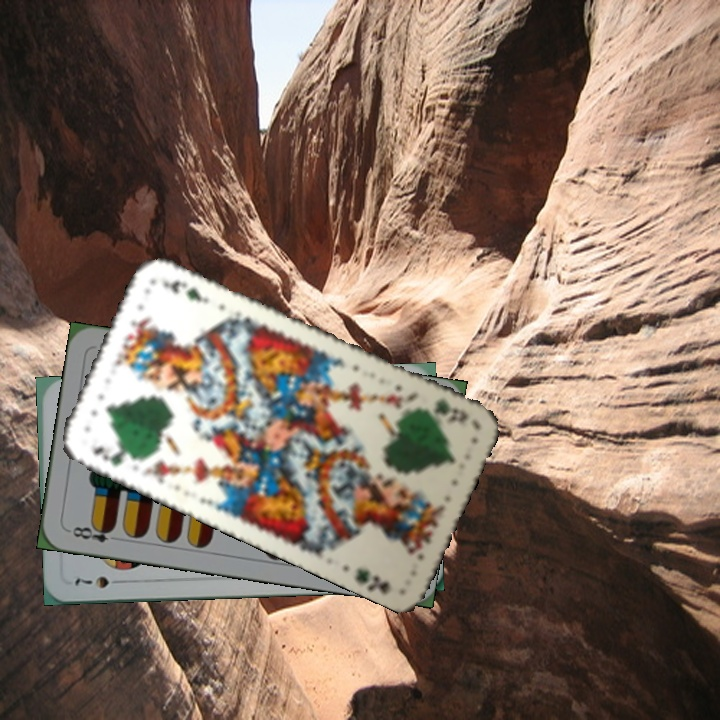E8: (64, 520, 123, 545)
GK: (88, 442, 140, 469), (429, 394, 470, 425)
S7: (68, 573, 127, 591)
